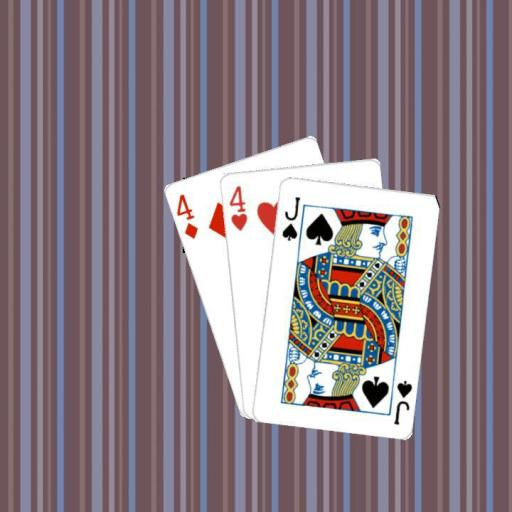4D: (173, 191, 199, 241)
4H: (225, 182, 249, 232)
JS: (278, 193, 302, 242), (391, 377, 414, 426)
